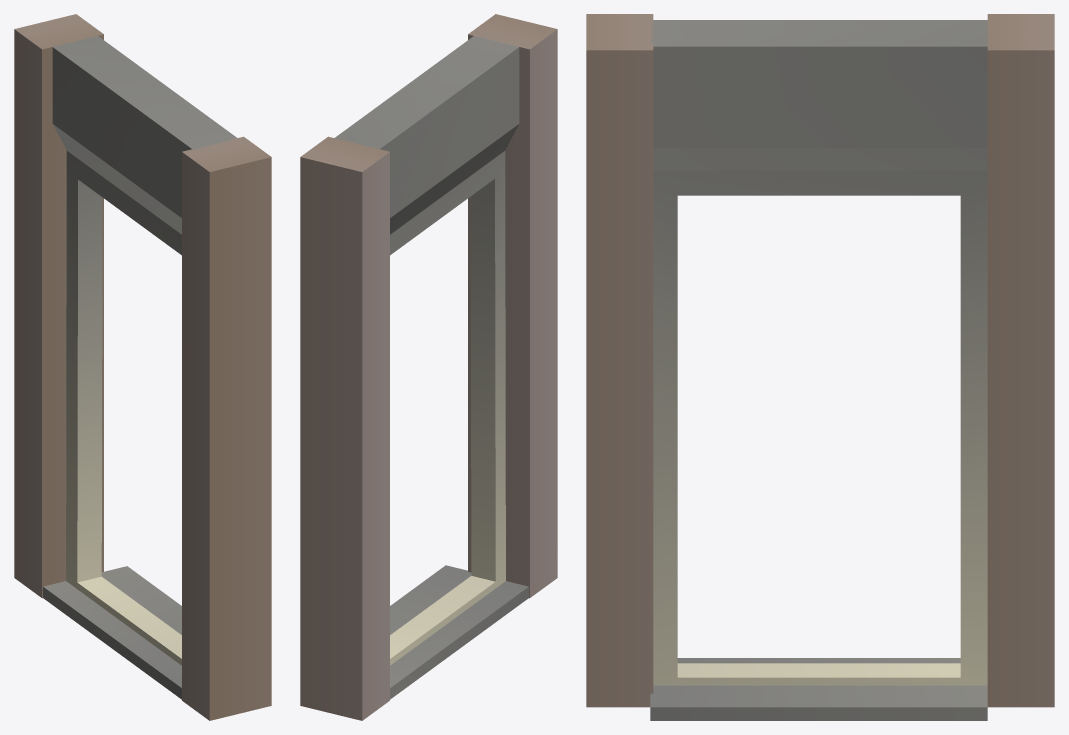
File: B01_cadre_porte_2.fbx
3 renders of one model, left to right at view 1: azimuth 30°, elevation 25°; view 2: azimuth 150°, elevation 25°; view 3: azimuth 270°, elevation 25°, orthographic. The views are drawn at different scales.
Parts seen in each view (by area): view 1: B01_cadre_porte_2; view 2: B01_cadre_porte_2; view 3: B01_cadre_porte_2.
Part boxes in pixels (x1,y1,x2,y2): B01_cadre_porte_2: (14,14,271,720); B01_cadre_porte_2: (300,14,557,720); B01_cadre_porte_2: (586,14,1054,720).
Bounding box in the file's own units: 49.53 × 305 × 197.
